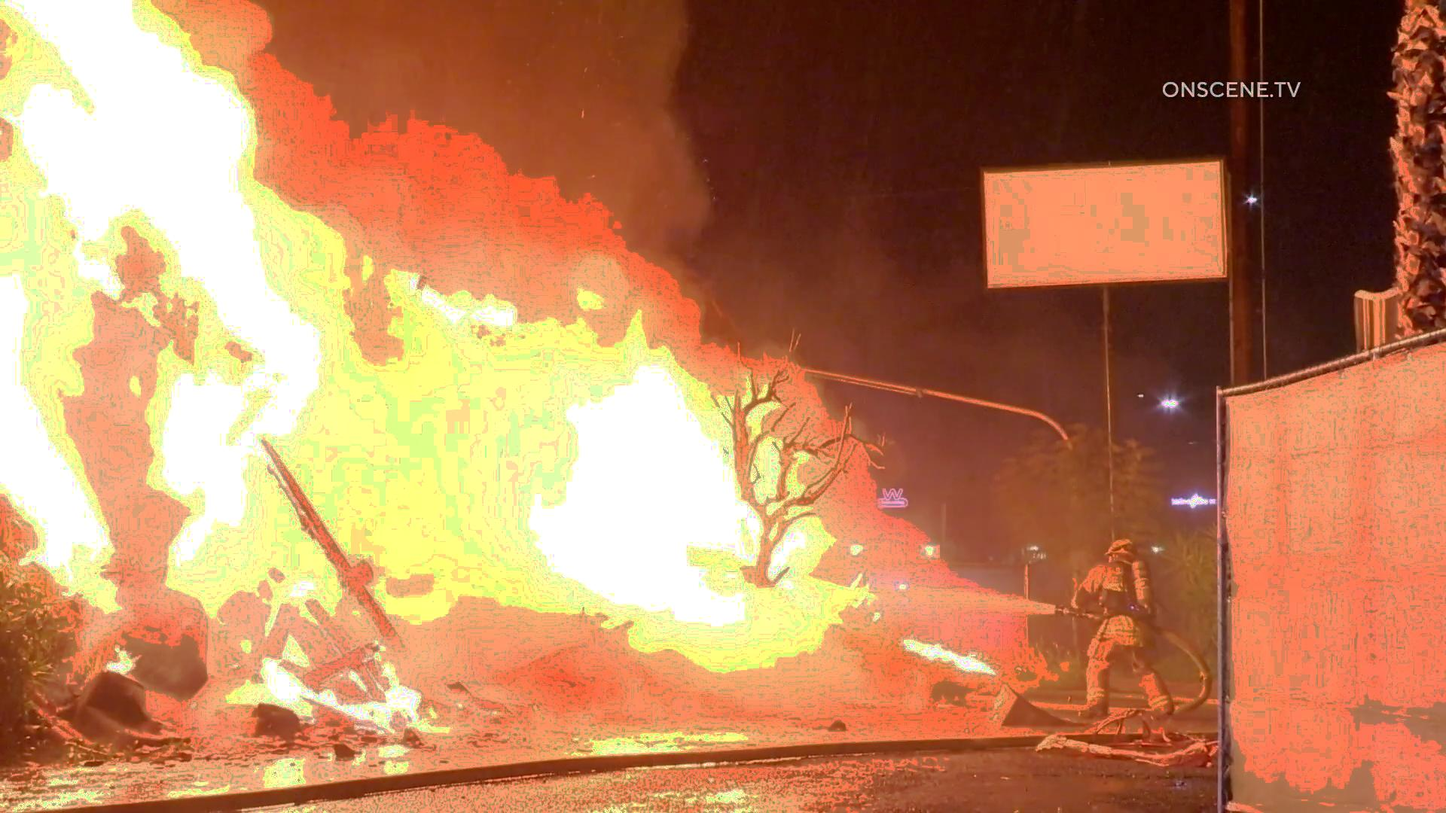fire: (0, 0, 260, 476), (563, 405, 719, 586)
smoke: (322, 0, 676, 301)
